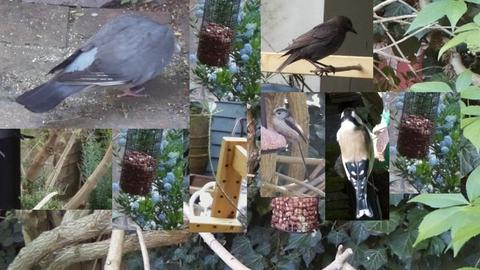goldfinch: (336, 107, 374, 219)
long tailed tit: (271, 107, 310, 182)
starling: (276, 15, 358, 77)
wood pigeon: (15, 15, 175, 114)
